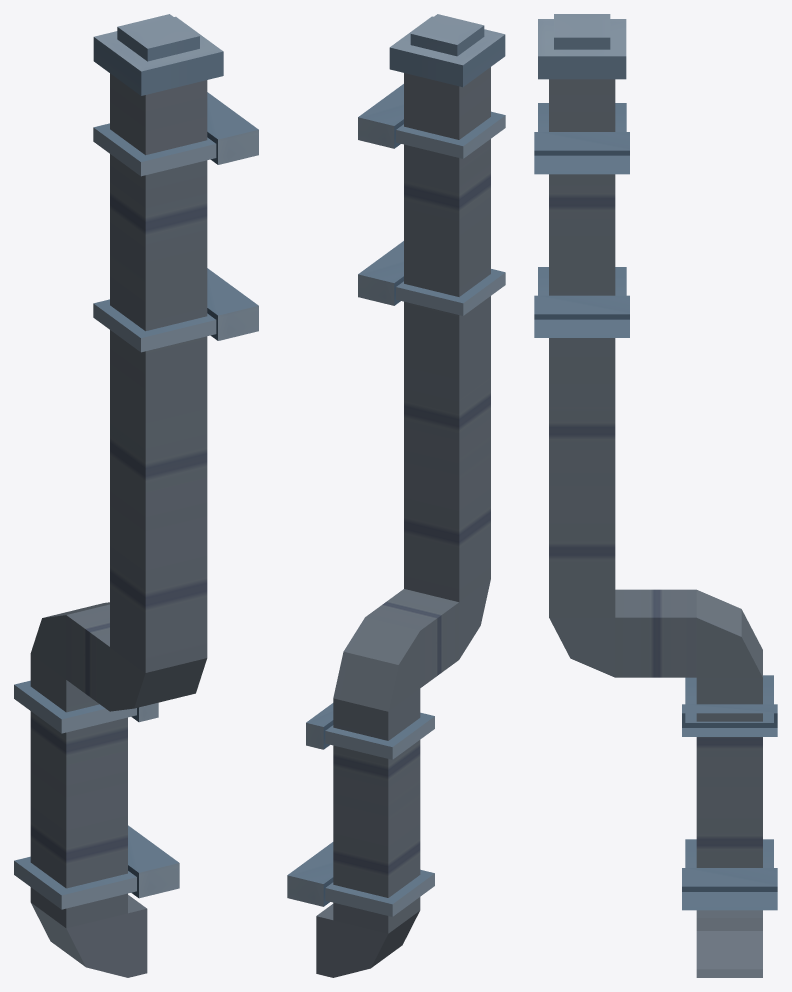
Rendered from SM_VentShaft_medium_01.fbx.
3 views of the same model, side by side, from view 1: azimuth 30°, elevation 25°; view 2: azimuth 150°, elevation 25°; view 3: azimuth 270°, elevation 25° (orthographic). The views are drawn at different scales.
Parts seen in each view (by area): view 1: SM_VentShaft_medium_01; view 2: SM_VentShaft_medium_01; view 3: SM_VentShaft_medium_01.
Part boxes in pixels (x1=…): SM_VentShaft_medium_01: x1=14, y1=14, x2=258, y2=977; SM_VentShaft_medium_01: x1=287, y1=14, x2=505, y2=977; SM_VentShaft_medium_01: x1=534, y1=14, x2=777, y2=977.
Size of the model in its own units: 1.37 by 11.26 by 2.67.
